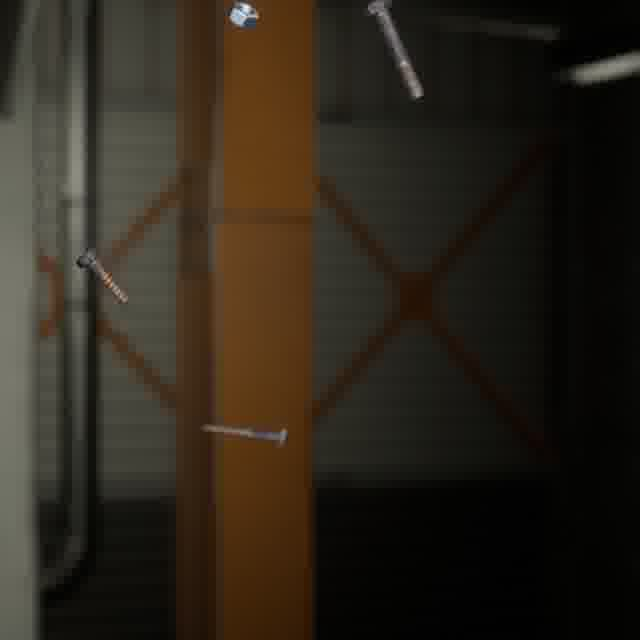bolt: (360, 0, 428, 104), (70, 240, 135, 310), (195, 419, 293, 451)
nut: (223, 0, 262, 33)
